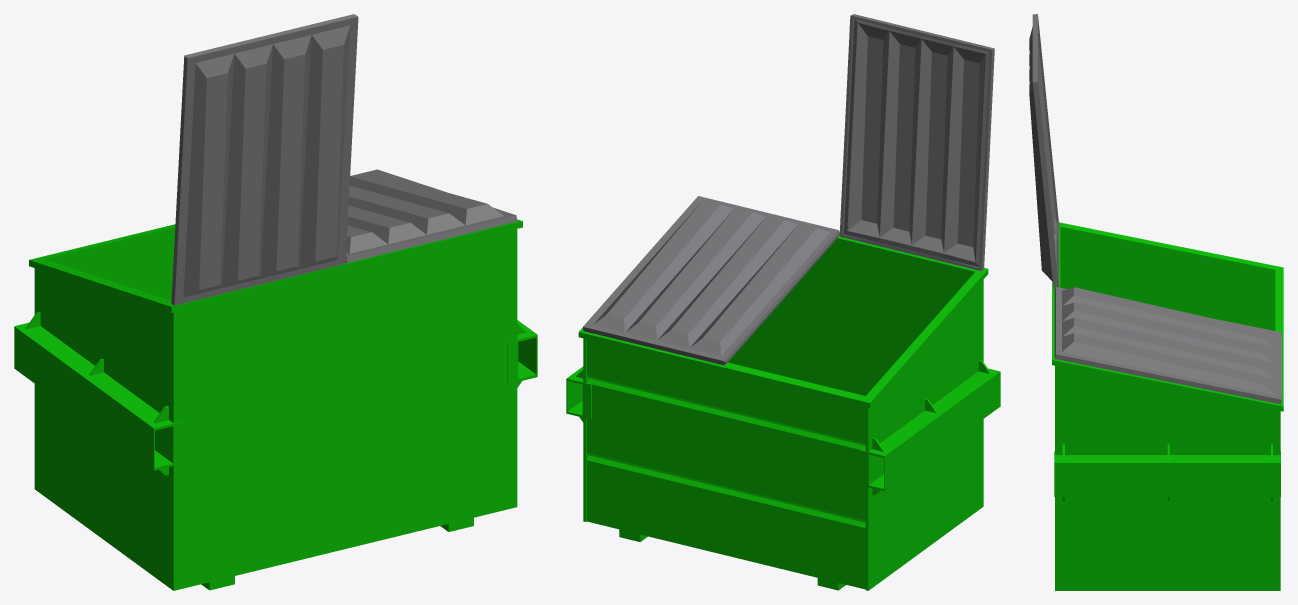
Rendered from Dumpster_OpenRight.fbx.
3 views of the same model, side by side, from view 1: azimuth 30°, elevation 25°; view 2: azimuth 150°, elevation 25°; view 3: azimuth 270°, elevation 25° (orthographic). The views are drawn at different scales.
Visible parts, largest first — view 1: Container, Lid_OpenRight, SideThingys; view 2: Container, Lid_OpenRight, SideThingys; view 3: Container, Lid_OpenRight, SideThingys.
Boxes of the visible parts, x1,y1,x2,y2 form: Container: [29, 219, 522, 590]; Lid_OpenRight: [171, 14, 517, 305]; SideThingys: [14, 312, 537, 475]; Container: [578, 235, 988, 590]; Lid_OpenRight: [583, 14, 994, 365]; SideThingys: [566, 360, 1000, 495]; Container: [1052, 222, 1283, 590]; Lid_OpenRight: [1029, 14, 1281, 404]; SideThingys: [1054, 444, 1280, 500].
Bounding box in the file's own units: 271 × 375 × 192.
